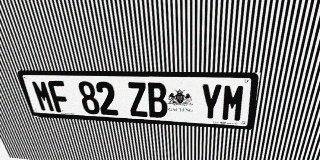2: (95, 81, 118, 115)
8: (77, 81, 101, 114)
B: (146, 82, 168, 118)
F: (47, 80, 72, 113)
M: (221, 84, 247, 122), (30, 80, 56, 112)
Y: (200, 83, 223, 121)
Z: (126, 82, 149, 117)
